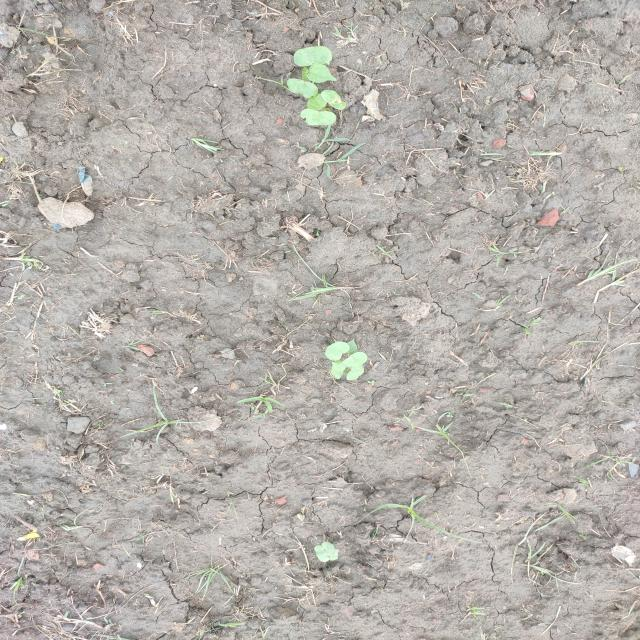seedling: (294, 46, 332, 67), (287, 78, 318, 99), (308, 63, 336, 83), (301, 109, 336, 125), (325, 341, 350, 361), (321, 90, 346, 109), (341, 352, 368, 369), (307, 94, 327, 111), (330, 360, 347, 379), (346, 364, 365, 381), (314, 545, 329, 562), (321, 541, 335, 556), (347, 339, 357, 354), (330, 549, 339, 561)
